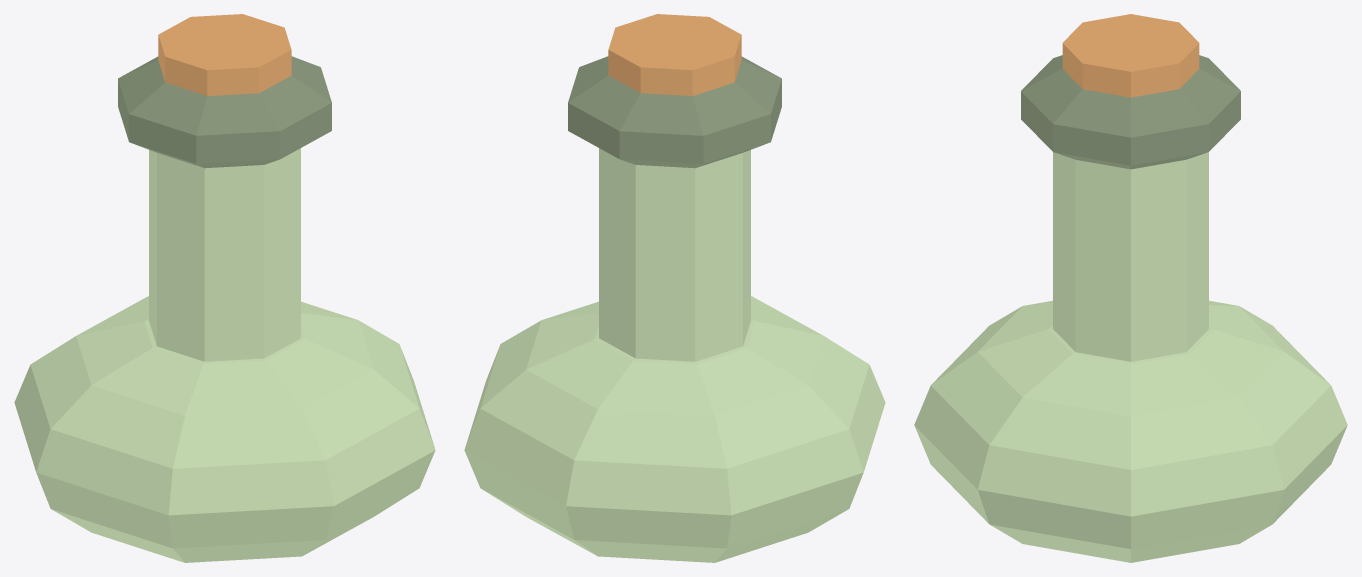
File: ParalysisDraught.glb
3 views of the same model, side by side, from view 1: azimuth 30°, elevation 25°; view 2: azimuth 150°, elevation 25°; view 3: azimuth 270°, elevation 25° (orthographic).
Visible parts, largest first — view 1: Item, Neck, Lip, Cork; view 2: Item, Neck, Lip, Cork; view 3: Item, Neck, Lip, Cork.
Boxes of the visible parts, x1=… form: Item: x1=14, y1=296, x2=435, y2=562; Neck: x1=149, y1=148, x2=300, y2=361; Lip: x1=118, y1=56, x2=331, y2=168; Cork: x1=158, y1=14, x2=291, y2=95; Item: x1=464, y1=296, x2=885, y2=562; Neck: x1=599, y1=148, x2=750, y2=361; Lip: x1=568, y1=56, x2=781, y2=168; Cork: x1=608, y1=14, x2=741, y2=95; Item: x1=914, y1=300, x2=1347, y2=562; Neck: x1=1053, y1=152, x2=1208, y2=361; Lip: x1=1021, y1=55, x2=1240, y2=169; Cork: x1=1062, y1=14, x2=1199, y2=97.
Size of the model in its own units: 1.27 by 1.56 by 1.27.
Materials: 4 (4 with a texture image).
